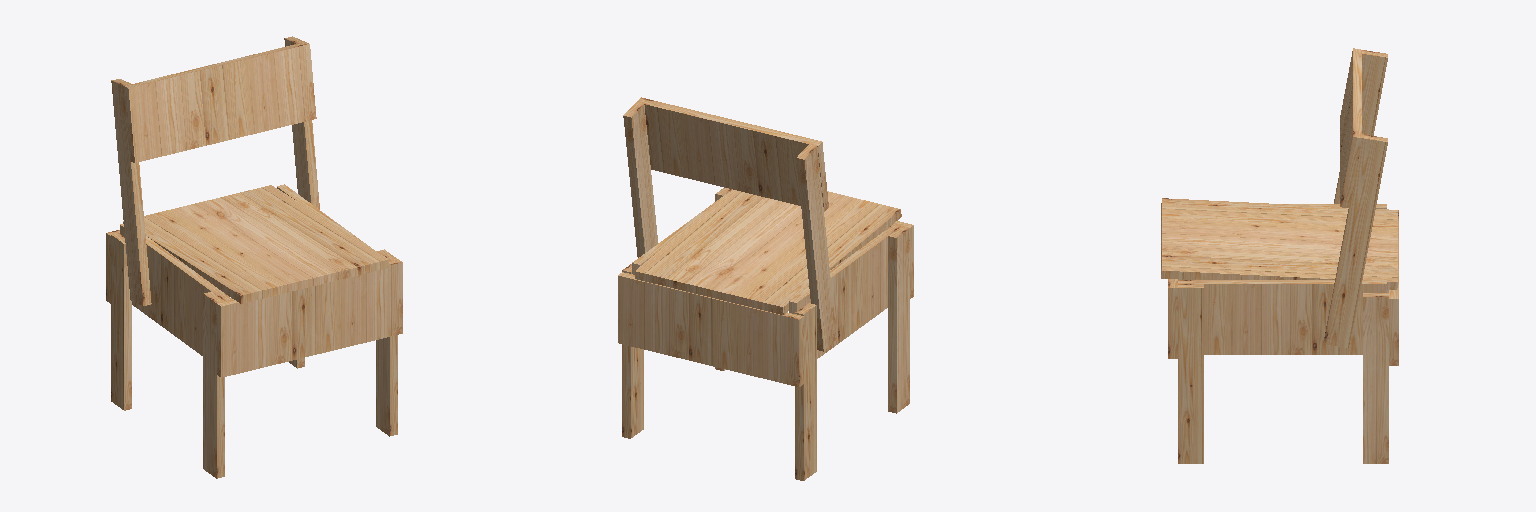
The picture shows the model from 3 angles: view 1: azimuth 30°, elevation 25°; view 2: azimuth 150°, elevation 25°; view 3: azimuth 270°, elevation 25°; orthographic projection.
Size of the model in its own units: 40.09 by 68.76 by 45.29.
1 materials, 1 textured.